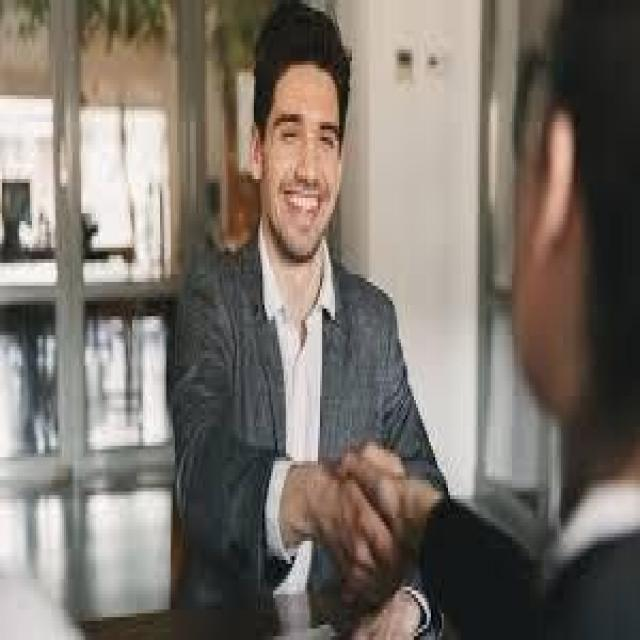person: (162, 16, 461, 594), (420, 0, 604, 636)
